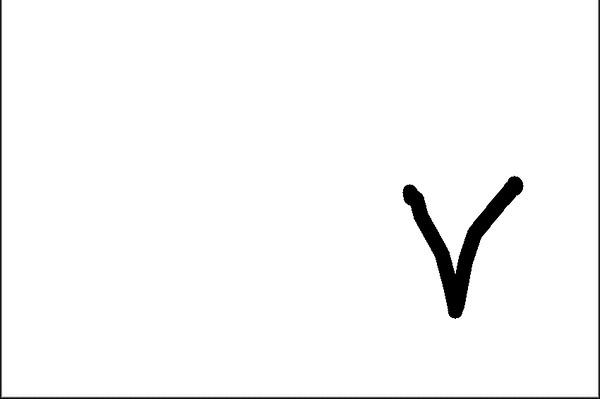V: (395, 172, 527, 323)
